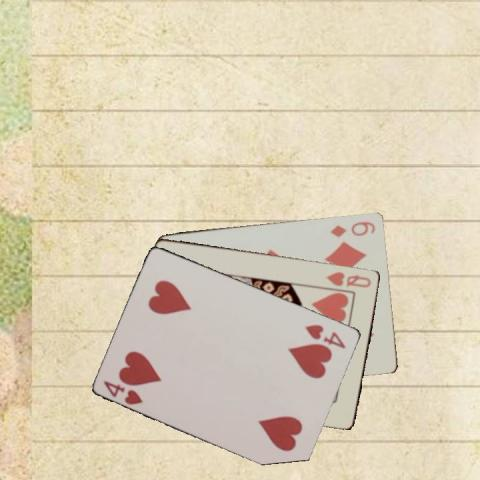4h: (302, 321, 347, 350), (101, 377, 145, 406)
6d: (327, 218, 377, 238)
Qh: (323, 268, 373, 288)
